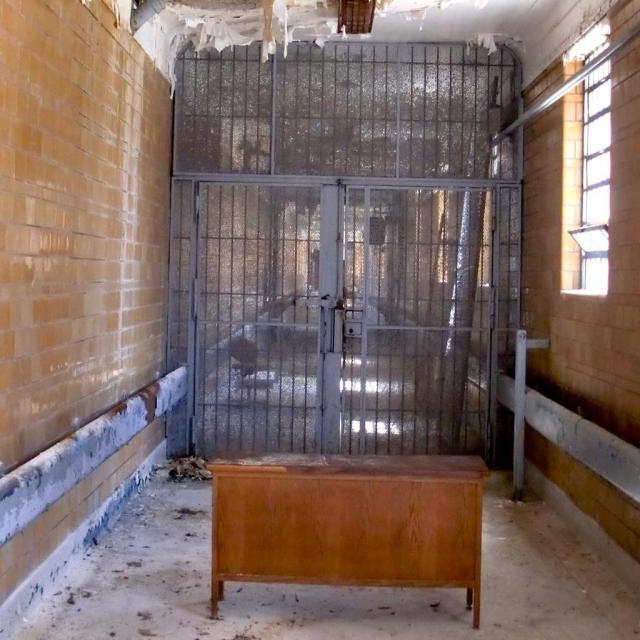table: (203, 454, 488, 628)
